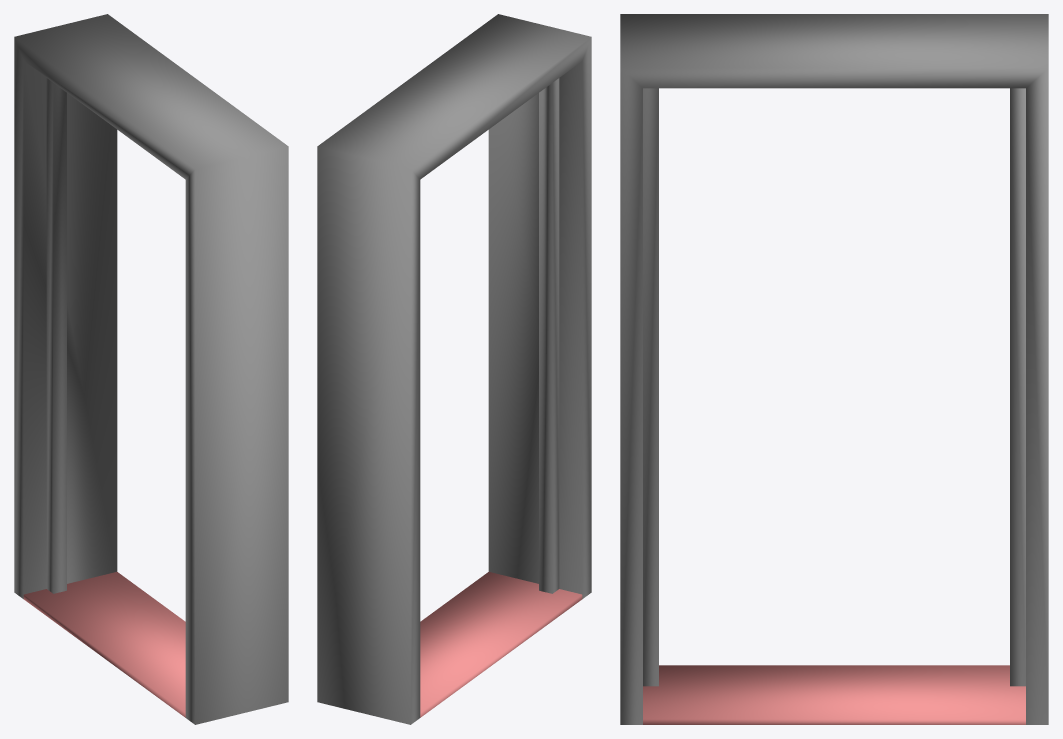
The model's file is SM_doorFrame_01.gltf.
3 renders of one model, left to right at view 1: azimuth 30°, elevation 25°; view 2: azimuth 150°, elevation 25°; view 3: azimuth 270°, elevation 25°, orthographic. The views are drawn at different scales.
Parts seen in each view (by area): view 1: SM_doorFrame_01; view 2: SM_doorFrame_01; view 3: SM_doorFrame_01.
Boxes of the visible parts, box(x1,y1,x2,y2) form: SM_doorFrame_01: box(14, 14, 288, 724); SM_doorFrame_01: box(317, 14, 591, 724); SM_doorFrame_01: box(620, 14, 1048, 724).
Size of the model in its own units: 0.4 by 2.27 by 1.34.
